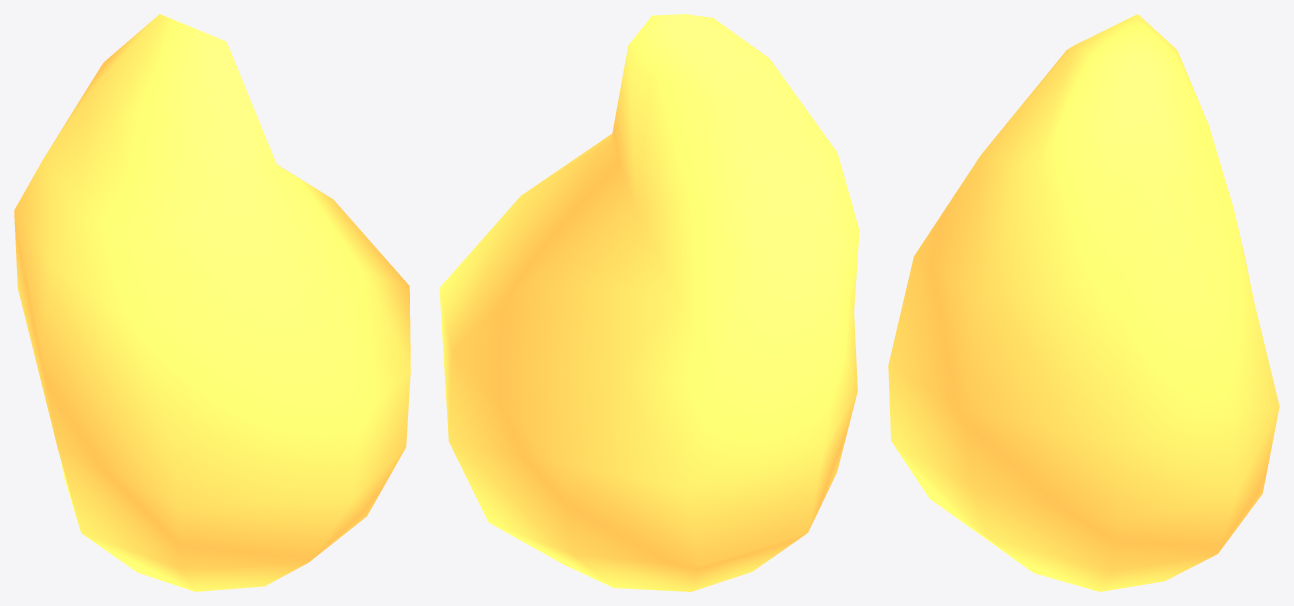
File: FireFlame.fbx
3 renders of one model, left to right at view 1: azimuth 30°, elevation 25°; view 2: azimuth 150°, elevation 25°; view 3: azimuth 270°, elevation 25°, orthographic. The views are drawn at different scales.
Parts seen in each view (by area): view 1: Fire3; view 2: Fire3; view 3: Fire3.
Boxes of the visible parts, box(x1,y1,x2,y2) form: Fire3: box(14, 14, 410, 591); Fire3: box(439, 14, 859, 591); Fire3: box(888, 14, 1279, 591).
Size of the model in its own units: 171 by 241 by 160.
